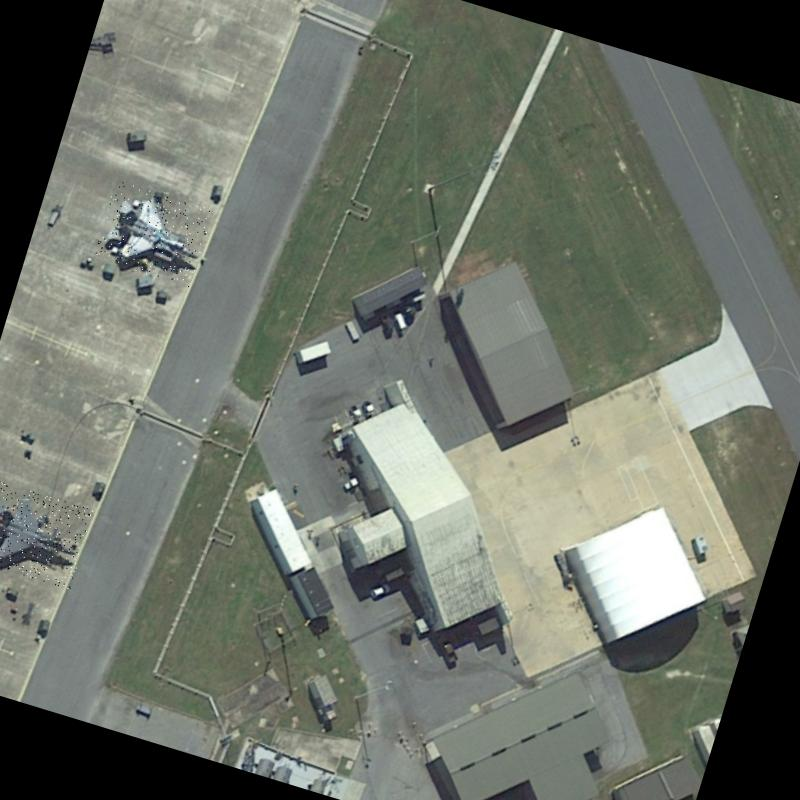A13: (92, 180, 213, 288), (0, 480, 94, 590)
